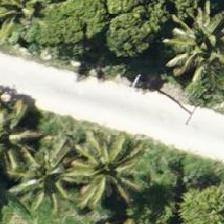coconut_tree: (61, 122, 151, 212), (1, 129, 91, 219), (156, 2, 223, 92)
